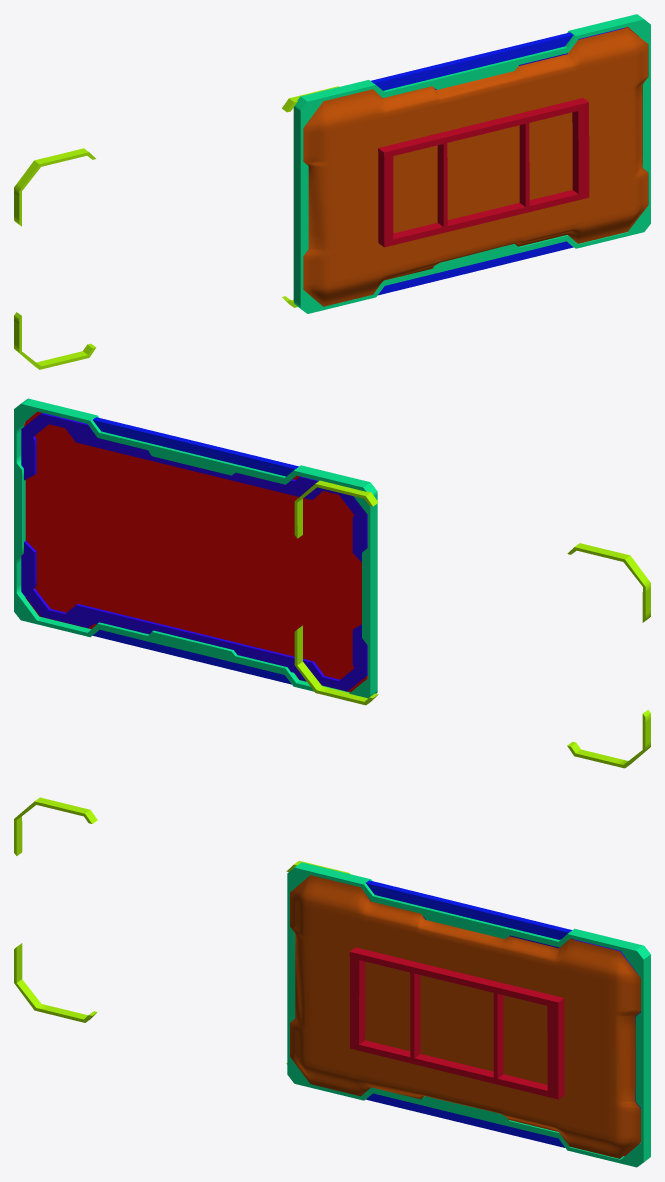
Rendered from Sci-fi monitor.FBX.
3 renders of one model, top to bottom at view 1: azimuth 30°, elevation 25°; view 2: azimuth 150°, elevation 25°; view 3: azimuth 330°, elevation 25°, orthographic.
Parts seen in each view (by area): view 1: monitor_backpannel, monitor_base, monitor_mount, monitor_base_4, monitor_base_2; view 2: monitor_display, monitor_base, monitor_base_3, monitor_base_4, monitor_base_2; view 3: monitor_backpannel, monitor_base, monitor_mount, monitor_base_4, monitor_base_2.
Boxes of the visible parts, <box> form: monitor_backpannel: <box>303,28,648,306</box>; monitor_base: <box>293,14,650,313</box>; monitor_mount: <box>378,98,589,247</box>; monitor_base_4: <box>371,32,573,295</box>; monitor_base_2: <box>14,86,339,369</box>; monitor_display: <box>25,411,367,692</box>; monitor_base: <box>14,398,377,698</box>; monitor_base_3: <box>21,413,367,691</box>; monitor_base_4: <box>93,417,298,684</box>; monitor_base_2: <box>294,480,650,768</box>; monitor_backpannel: <box>290,875,640,1158</box>; monitor_base: <box>287,862,650,1167</box>; monitor_mount: <box>349,947,564,1099</box>; monitor_base_4: <box>366,880,571,1147</box>; monitor_base_2: <box>14,797,349,1064</box>.
Bounding box in the file's own units: 60.32 × 19.62 × 3.8.
